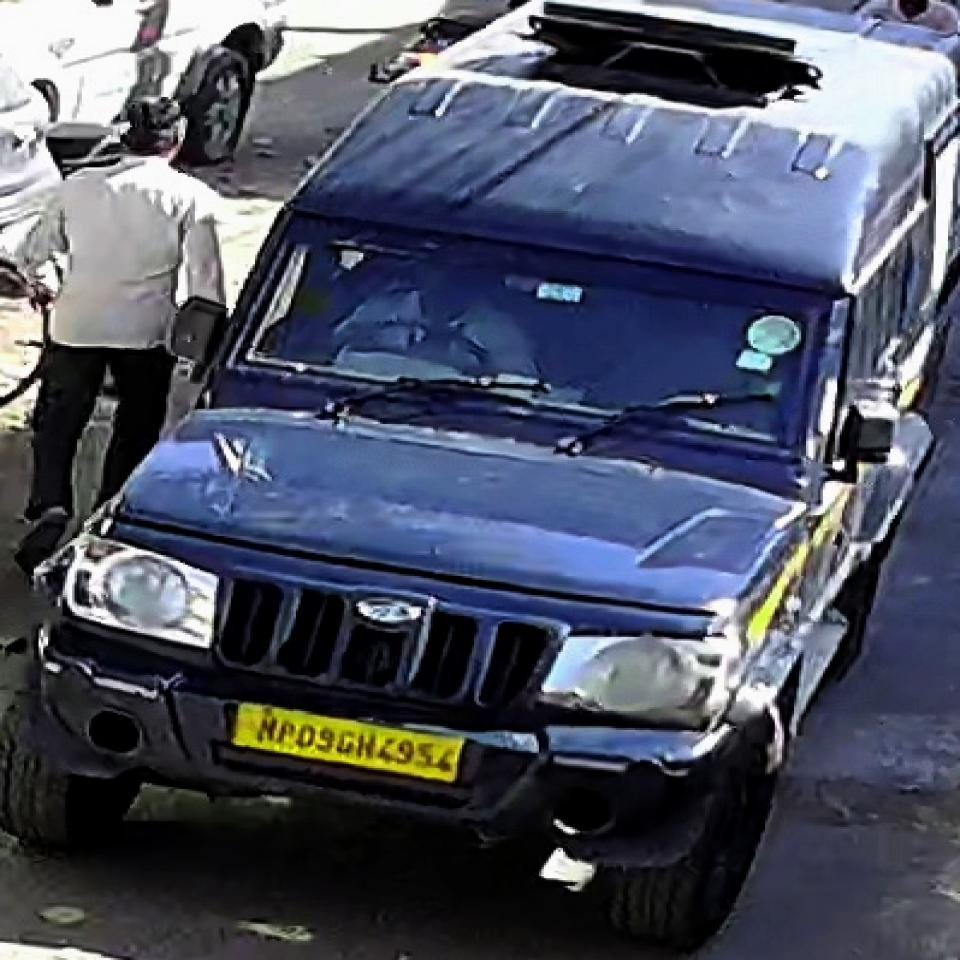head_light: (58, 546, 223, 643), (558, 635, 715, 725)
